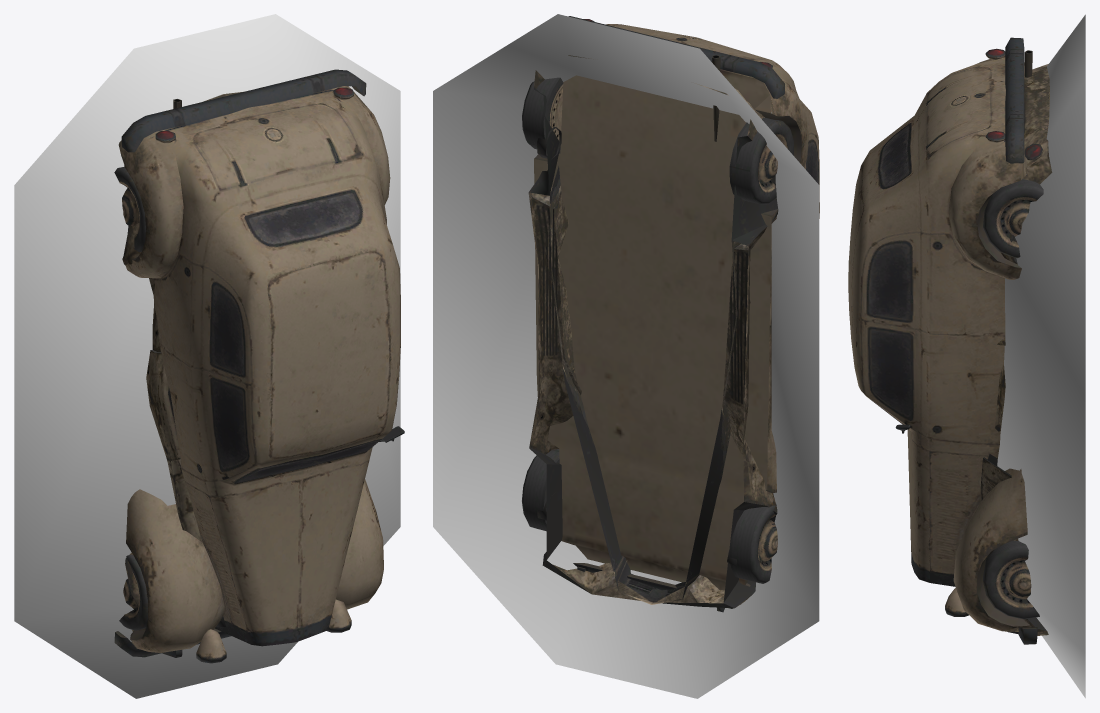
File: hd_env418_OldGMercedes1.glb
3 views of the same model, side by side, from view 1: azimuth 30°, elevation 25°; view 2: azimuth 150°, elevation 25°; view 3: azimuth 270°, elevation 25° (orthographic). The views are drawn at different scales.
Parts seen in each view (by area): view 1: set_0_group_2, set_0_group_0, set_0_group_1; view 2: set_0_group_0, set_0_group_2, set_0_group_1; view 3: set_0_group_2, set_0_group_0, set_0_group_1.
Part boxes in pixels (x1=…): set_0_group_2: x1=114, y1=69, x2=404, y2=663; set_0_group_0: x1=14, y1=14, x2=400, y2=698; set_0_group_1: x1=118, y1=91, x2=243, y2=631; set_0_group_0: x1=433, y1=14, x2=819, y2=698; set_0_group_2: x1=522, y1=16, x2=819, y2=612; set_0_group_1: x1=528, y1=55, x2=778, y2=608; set_0_group_2: x1=848, y1=37, x2=1043, y2=644; set_0_group_0: x1=997, y1=14, x2=1085, y2=698; set_0_group_1: x1=978, y1=64, x2=1052, y2=635.
Bounding box in the file's own units: 2.98 × 4.79 × 1.67.
3 materials, 2 textured.
